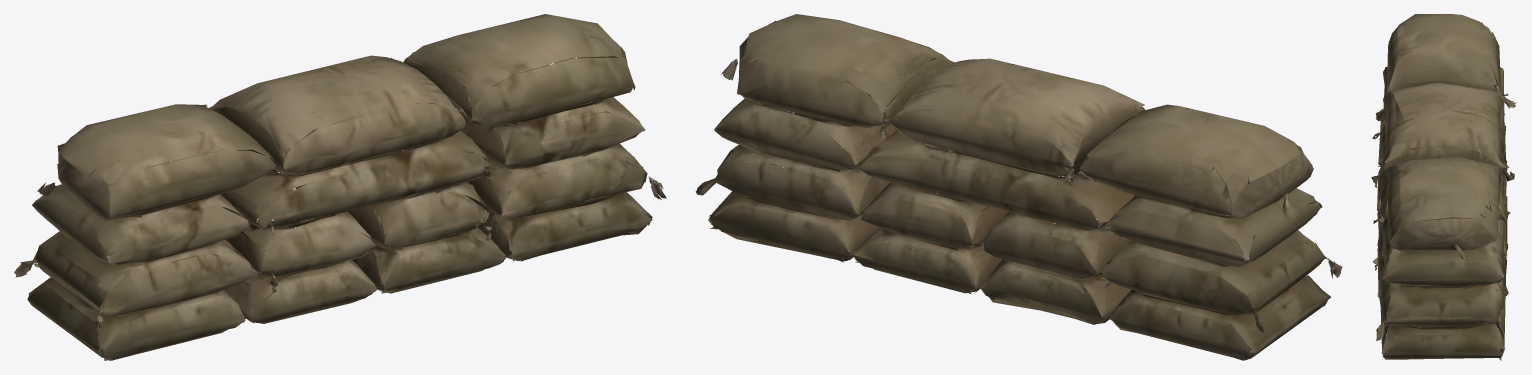
File: prop_sandbag_wall.glb
3 renders of one model, left to right at view 1: azimuth 30°, elevation 25°; view 2: azimuth 150°, elevation 25°; view 3: azimuth 270°, elevation 25°, orthographic. The views are drawn at different scales.
Visible parts, largest first — view 1: prop_sandbag_wall; view 2: prop_sandbag_wall; view 3: prop_sandbag_wall.
Boxes of the visible parts, <box> form: prop_sandbag_wall: <box>14,14,666,360</box>; prop_sandbag_wall: <box>695,14,1342,360</box>; prop_sandbag_wall: <box>1371,14,1516,360</box>.
Size of the model in its own units: 3 by 0.9836 by 0.8362.
1 material, 1 textured.
